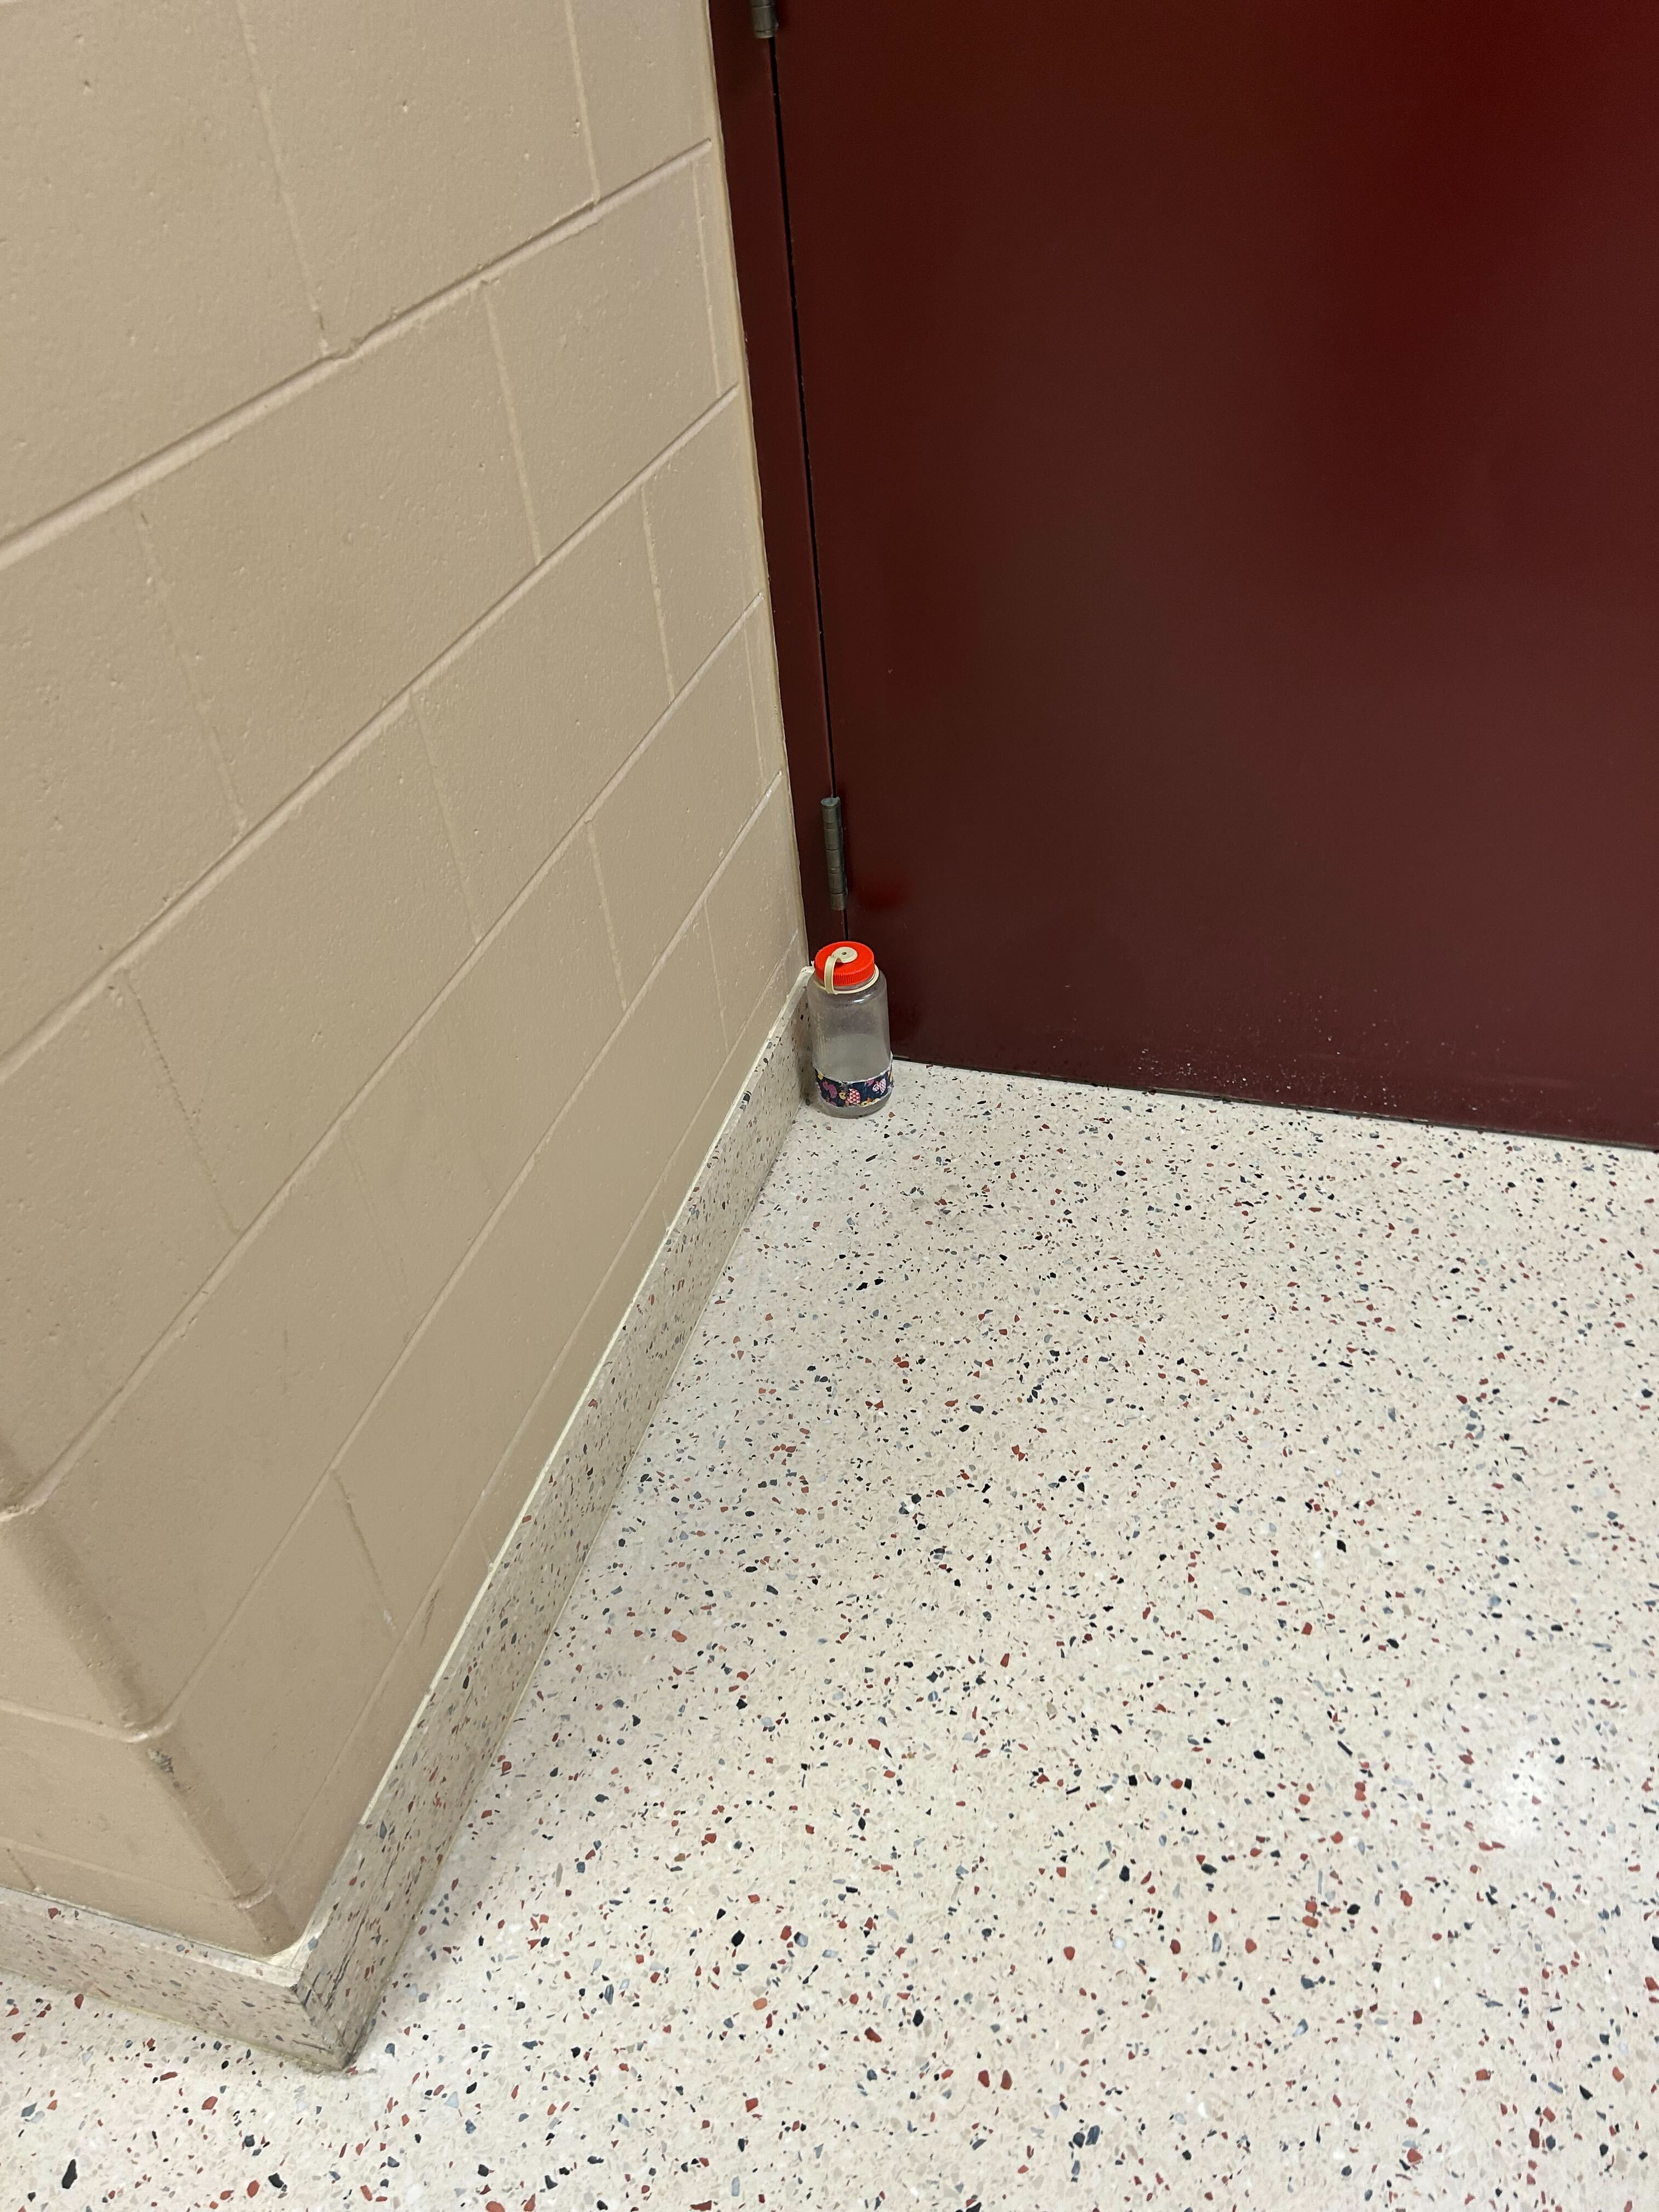bottle: (802, 927, 896, 1127)
